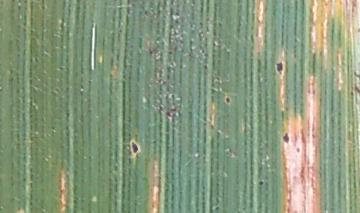tarspot: (129, 138, 141, 156), (274, 56, 284, 75), (349, 83, 360, 98), (280, 130, 290, 144), (257, 176, 266, 188), (224, 94, 232, 105)
